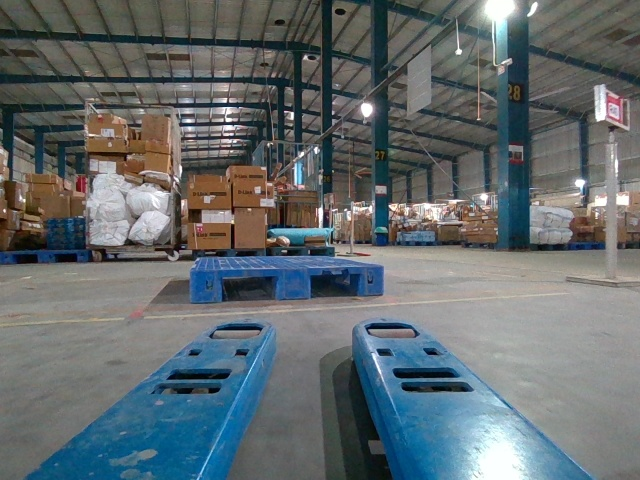block: (274, 266, 311, 301), (189, 267, 221, 304), (359, 267, 386, 295)
front: (191, 266, 384, 303)
hole pallet: (219, 273, 280, 302), (308, 270, 365, 298)
